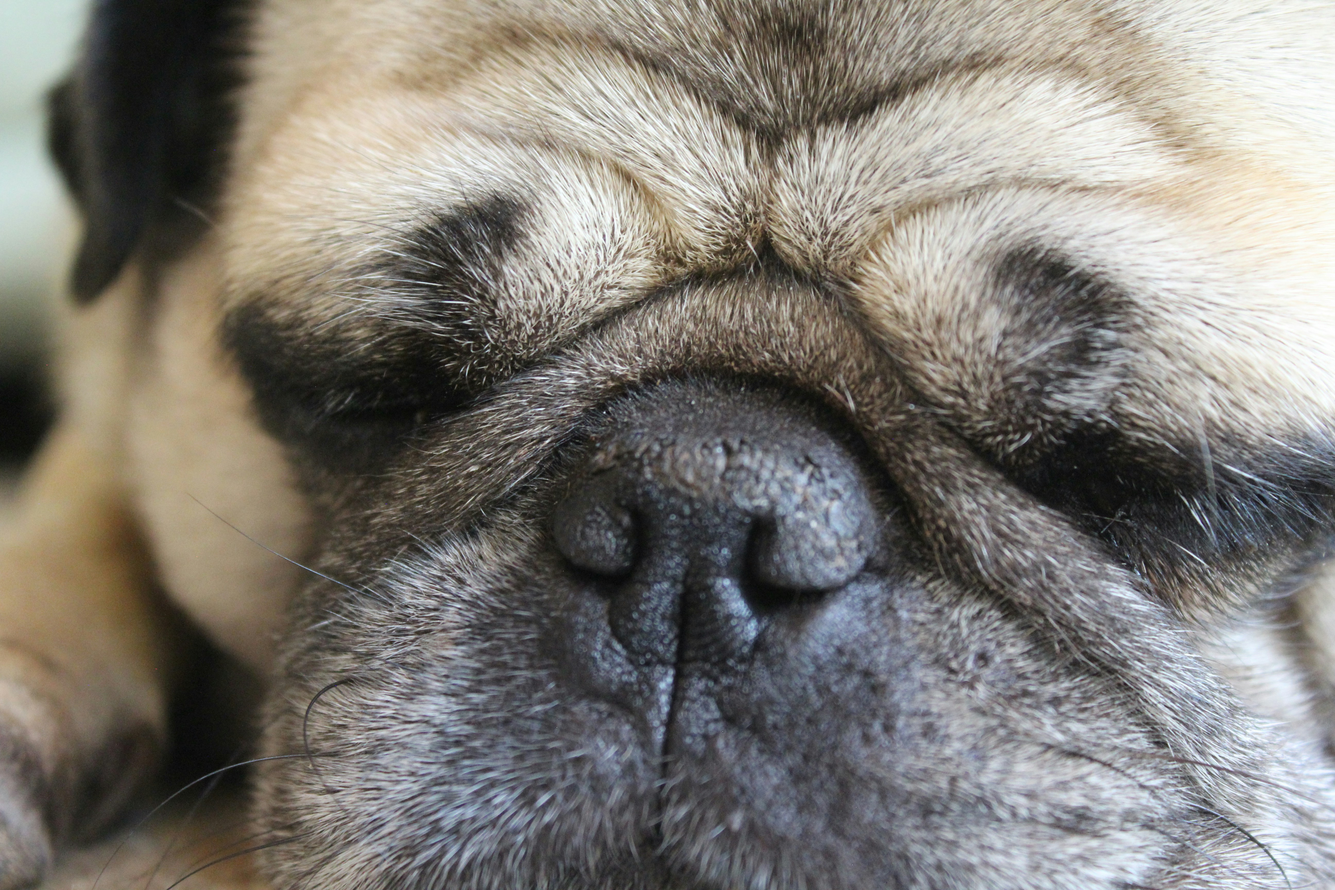dog-nose-detector: (550, 409, 869, 681)
